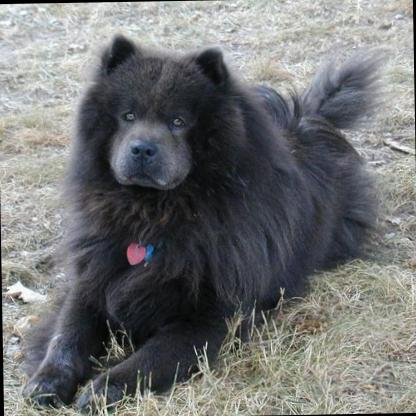chow: (12, 13, 387, 416)
